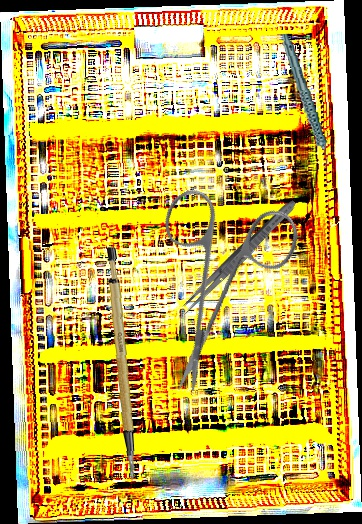Dressing Forceps: (177, 196, 300, 319)
Handpiece: (281, 31, 330, 171)
Iris Scissors: (96, 153, 342, 397)
Scalpel Handle: (91, 246, 148, 483)
